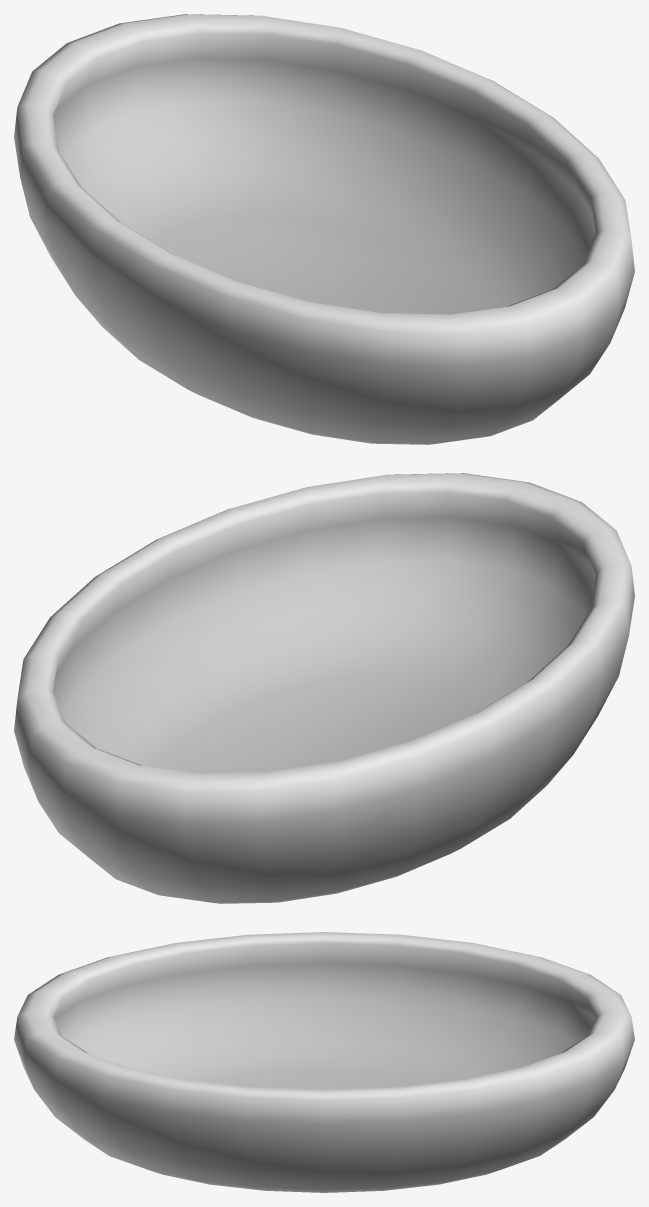
The model's file is bowl_003.fbx.
3 views of the same model, one above another, from view 1: azimuth 30°, elevation 25°; view 2: azimuth 150°, elevation 25°; view 3: azimuth 270°, elevation 25° (orthographic). The views are drawn at different scales.
Parts seen in each view (by area): view 1: bowl_003; view 2: bowl_003; view 3: bowl_003.
Part boxes in pixels (bbox=[...]): bowl_003: bbox=[14, 14, 634, 444]; bowl_003: bbox=[14, 473, 634, 903]; bowl_003: bbox=[14, 932, 634, 1192].
Size of the model in its own units: 12.96 by 20.1 by 4.52.
